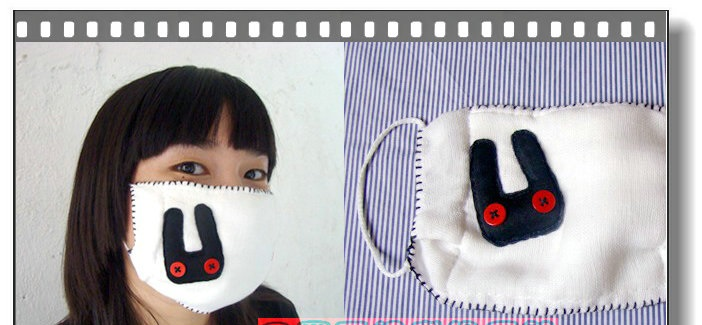face_mask: (135, 124, 279, 302)
